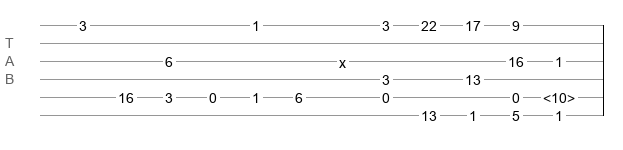0: (209, 90, 217, 100), (382, 90, 390, 100), (512, 90, 520, 100)
1: (252, 90, 260, 100), (252, 18, 260, 28), (469, 108, 477, 118), (555, 54, 563, 64), (555, 108, 563, 118)
13: (421, 108, 437, 118), (465, 72, 481, 82)
16: (118, 90, 134, 100), (508, 54, 524, 64)
17: (465, 18, 481, 28)
22: (421, 18, 437, 28)
3: (79, 18, 87, 28), (165, 90, 173, 100), (382, 18, 390, 28), (382, 72, 390, 82)
5: (512, 108, 520, 118)
6: (165, 54, 173, 64), (295, 90, 303, 100)
9: (512, 18, 520, 28)
harmonic: (543, 90, 575, 100)
x: (339, 55, 346, 63)
